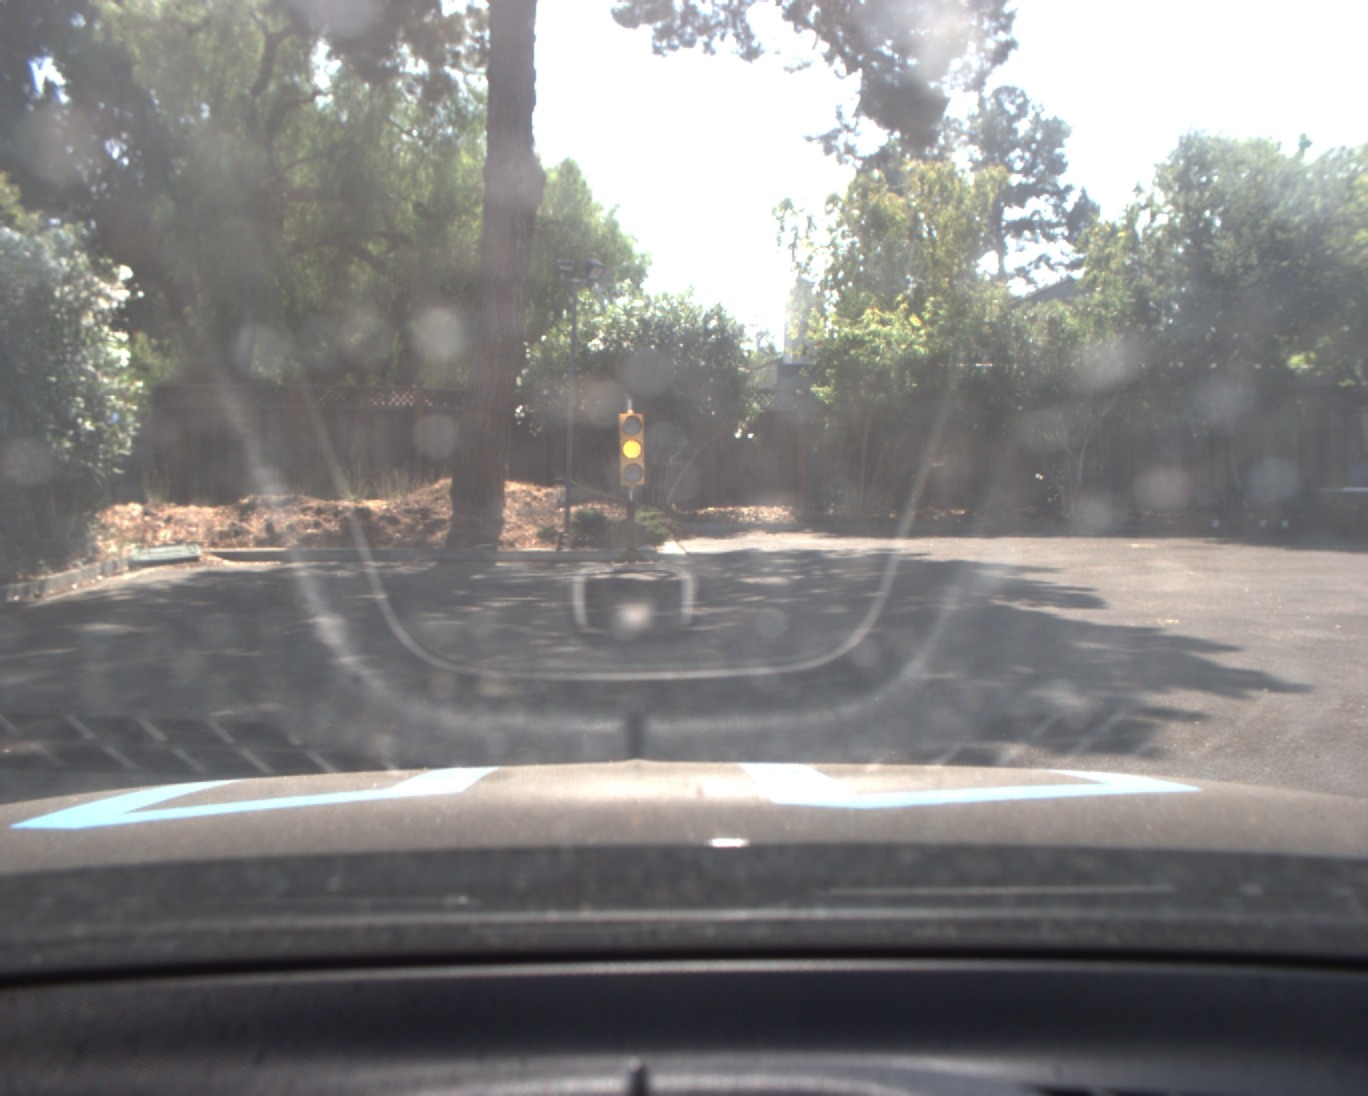yellow: (615, 413, 649, 494)
